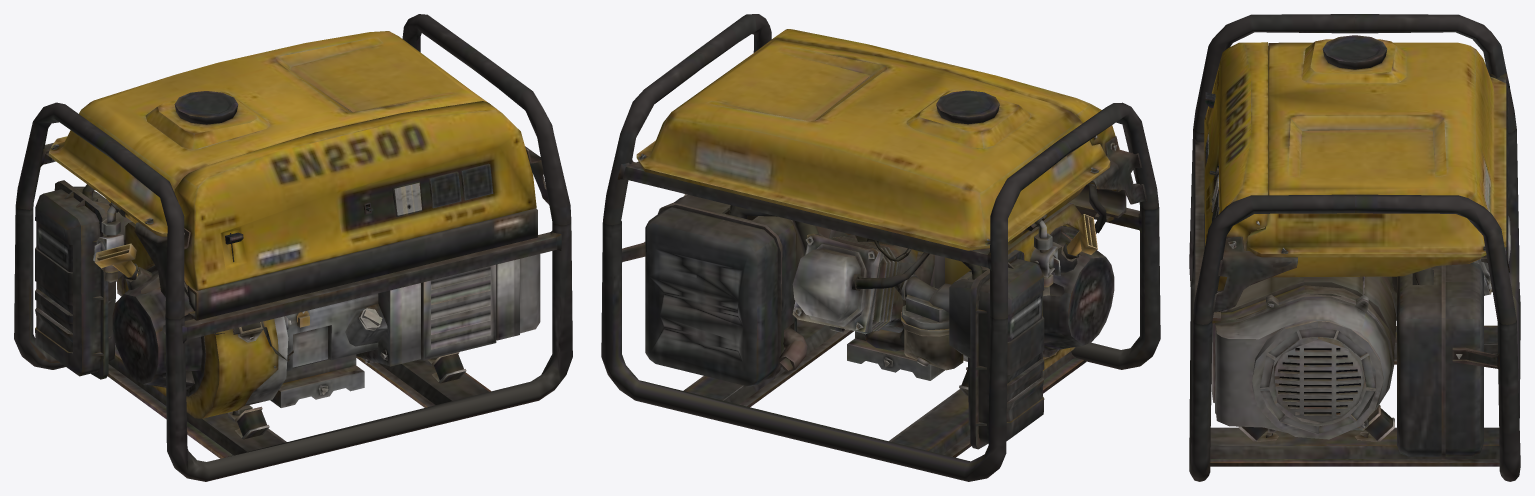
File: portable_generator.glb
The picture shows the model from 3 angles, left to right: view 1: azimuth 30°, elevation 25°; view 2: azimuth 150°, elevation 25°; view 3: azimuth 270°, elevation 25°; orthographic projection.
Size of the model in its own units: 0.8169 by 0.5752 by 0.564.
Materials: 2 (2 with a texture image).
